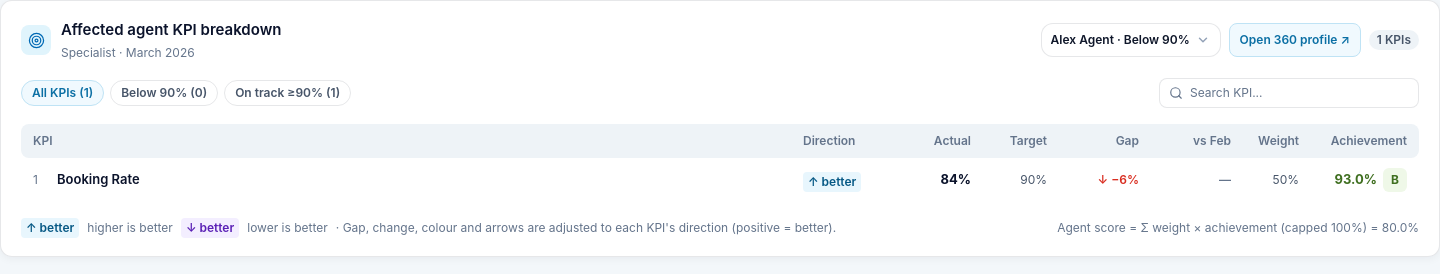
Test: AffectedAgentKpiBreakdown › switches affected agents and shows the selected agent actual, target, and gap
Select "Sam Agent · Below 90%" in the dropdown named "Affected agent" at (1131,40), box [1041,23,1221,57]
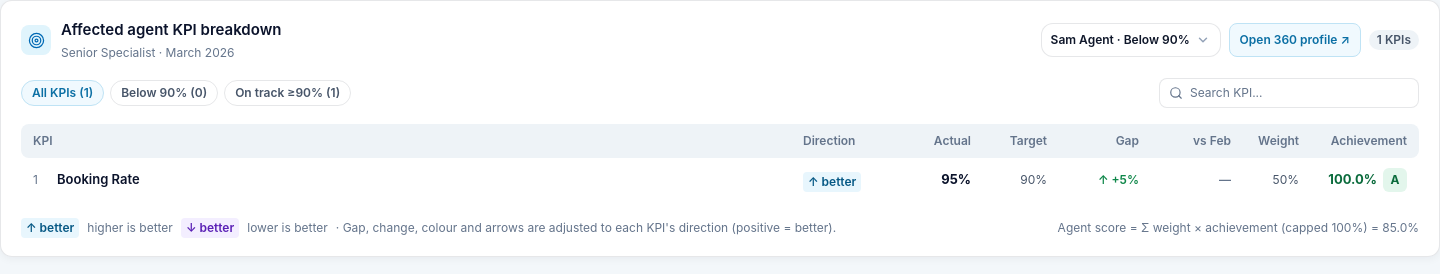
expect the text "Booking Rate" is shown: met, box [57,171,140,187]
expect the cell "95%" is shown: met, box [941,171,971,187]
expect the cell "↑ +5%" is shown: met, box [1098,172,1139,186]
